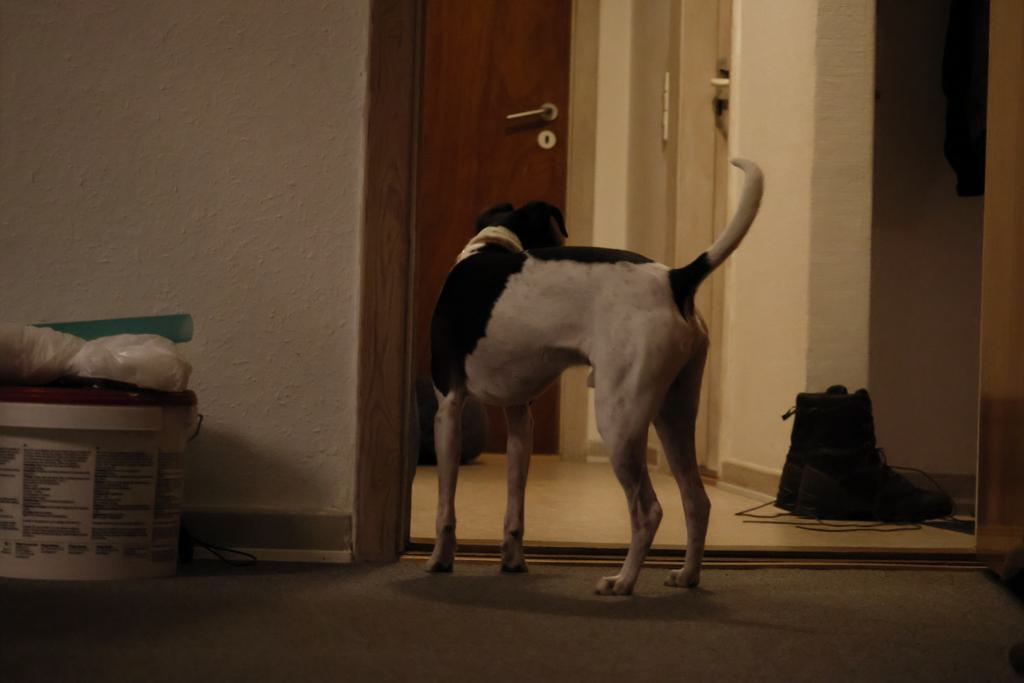Dog: (421, 147, 771, 606)
